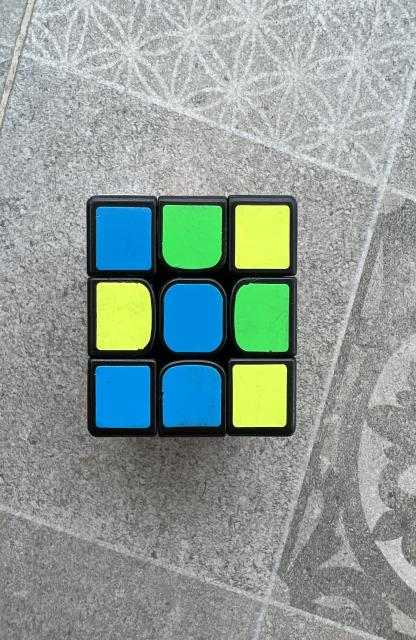Blue: (164, 284, 223, 352), (162, 365, 222, 428), (96, 206, 152, 270), (95, 366, 151, 429)
Green: (162, 205, 222, 269), (234, 284, 289, 352)
Yellow: (96, 282, 152, 350), (235, 205, 290, 269), (233, 364, 287, 428)
